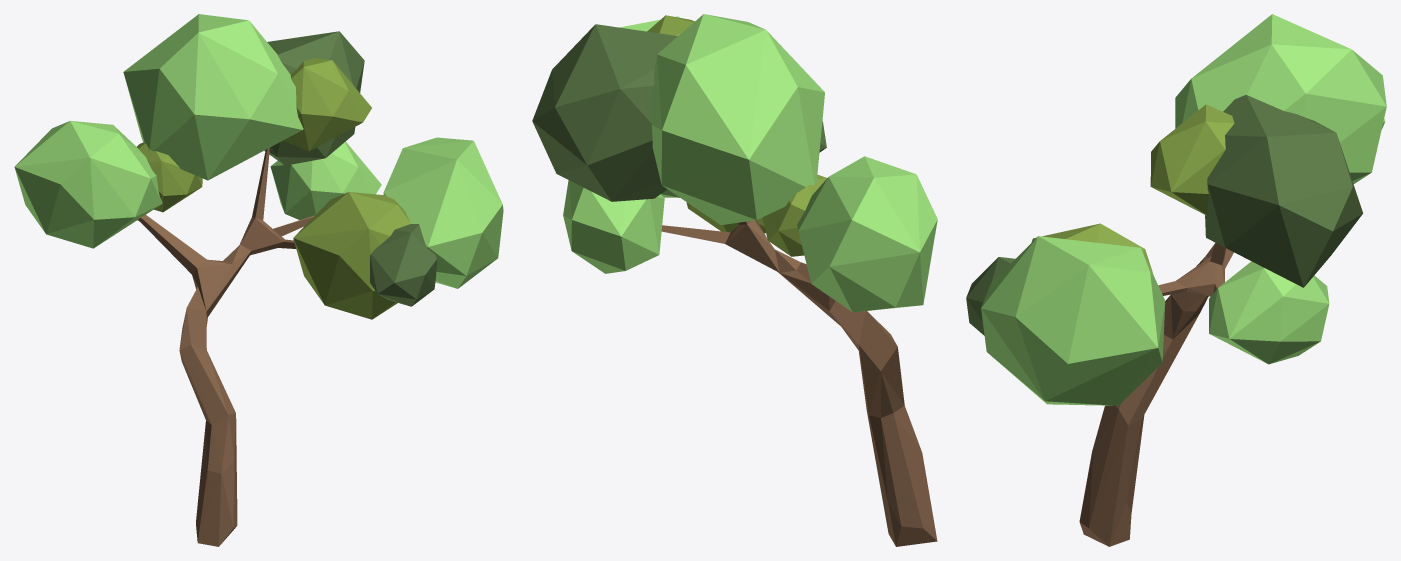
The model's file is arbol2.fbx.
3 views of the same model, side by side, from view 1: azimuth 30°, elevation 25°; view 2: azimuth 150°, elevation 25°; view 3: azimuth 270°, elevation 25° (orthographic). The views are drawn at different scales.
Parts seen in each view (by area): view 1: Cube; view 2: Cube; view 3: Cube.
Part boxes in pixels (bbox=[...]): Cube: bbox=[14, 14, 503, 546]; Cube: bbox=[532, 14, 937, 546]; Cube: bbox=[966, 14, 1386, 546].
Bounding box in the file's own units: 977 × 1104 × 759.
